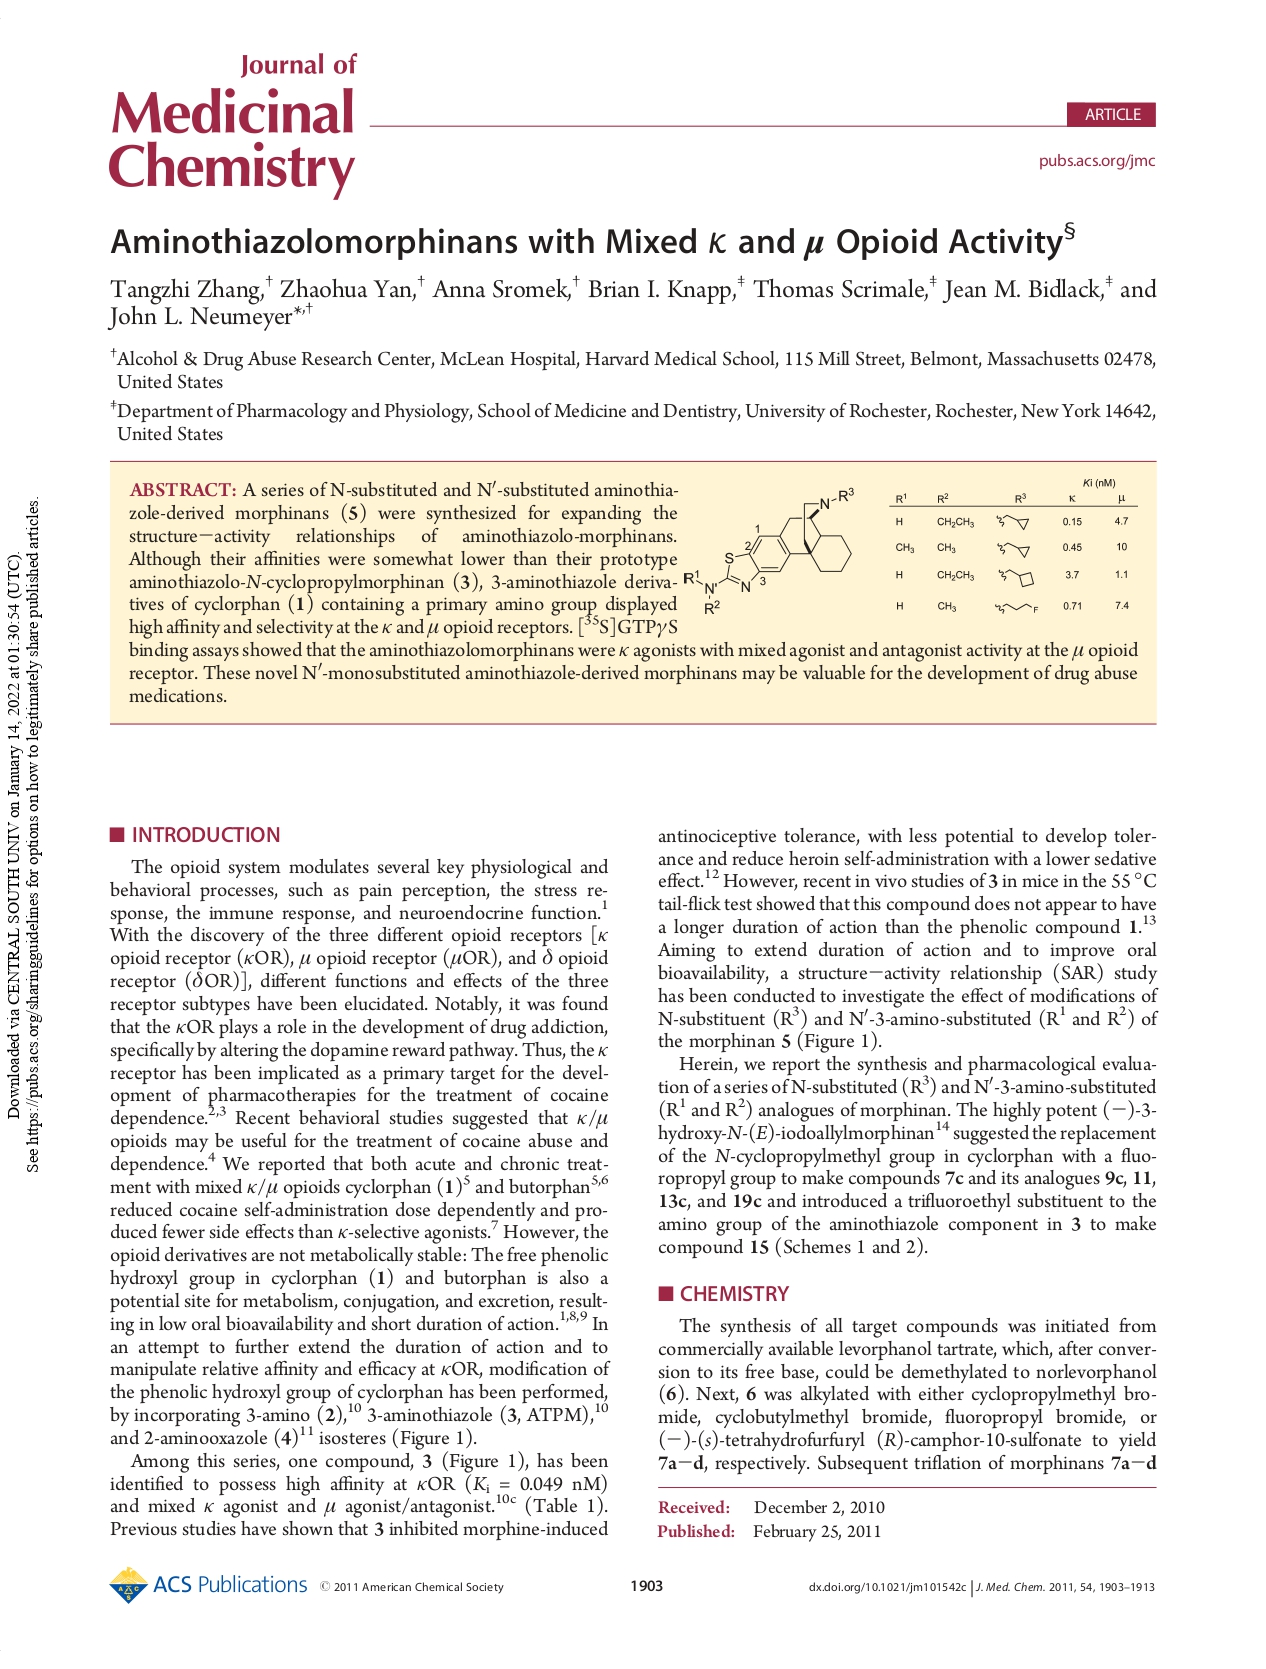exist_molecular: (680, 485, 856, 618), (989, 598, 1041, 618), (995, 567, 1037, 590), (993, 539, 1032, 561), (995, 509, 1032, 531)
